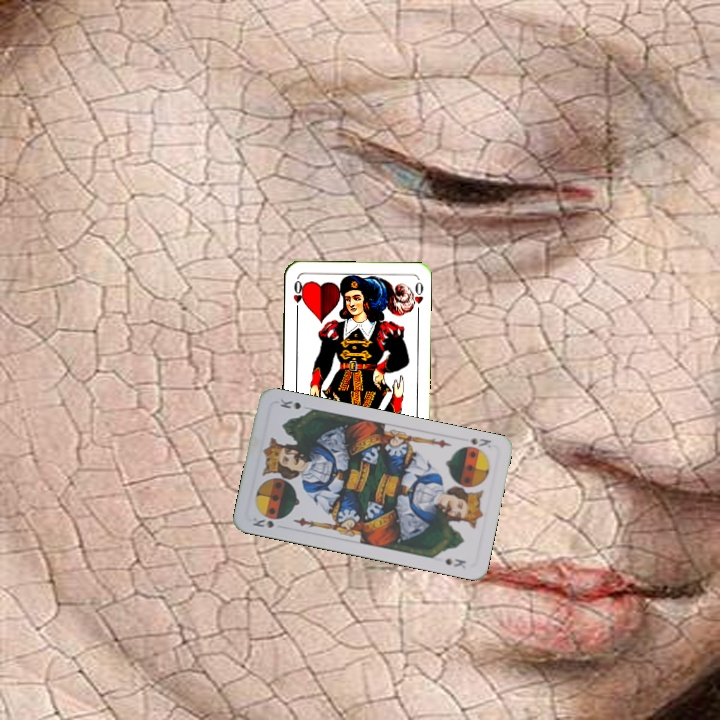HO: (289, 276, 306, 316)
SK: (248, 513, 277, 531), (467, 434, 494, 450)
